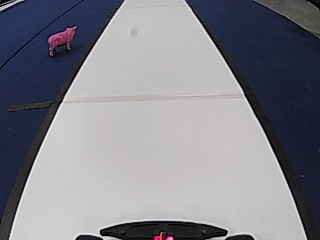pig: (44, 23, 78, 56)
